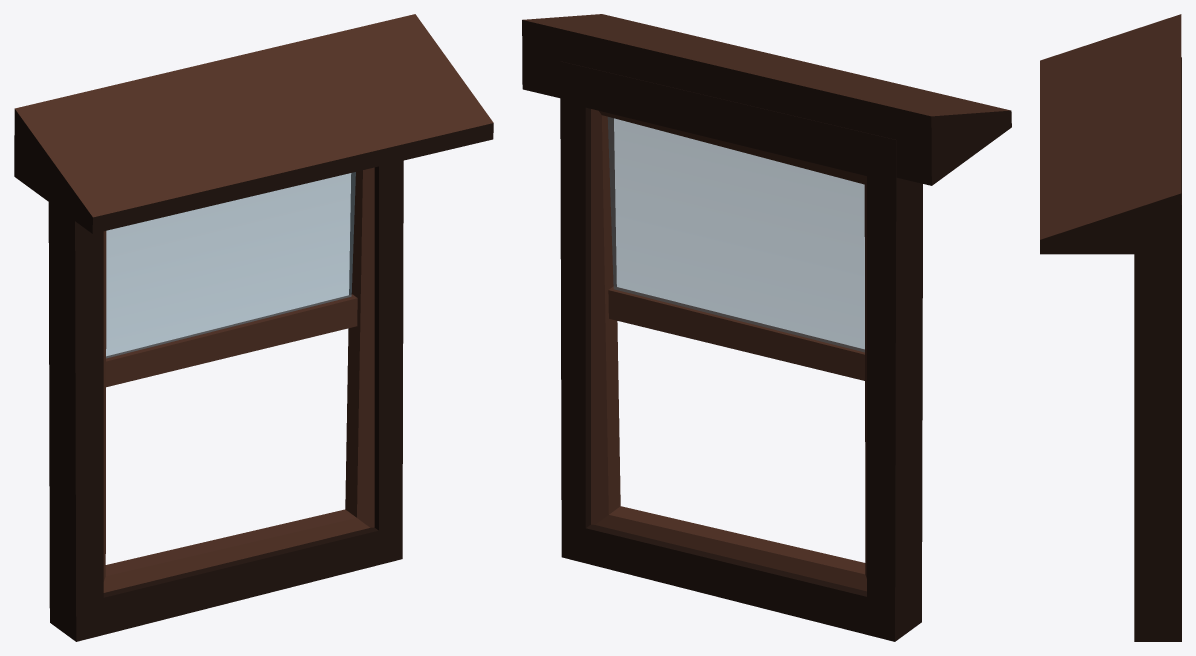
File: Window 1x2 V3 Open.glb
3 renders of one model, left to right at view 1: azimuth 30°, elevation 25°; view 2: azimuth 150°, elevation 25°; view 3: azimuth 270°, elevation 25°, orthographic. The views are drawn at different scales.
Visible parts, largest first — view 1: Window 1x2 V3 Open; view 2: Window 1x2 V3 Open; view 3: Window 1x2 V3 Open.
Part boxes in pixels (left/top/right/bottom): Window 1x2 V3 Open: left=14, top=14, right=493, bottom=641; Window 1x2 V3 Open: left=522, top=14, right=1011, bottom=641; Window 1x2 V3 Open: left=1040, top=14, right=1181, bottom=641.
Bounding box in the file's own units: 1.41 × 1.75 × 0.4769.
2 materials, 2 textured.
